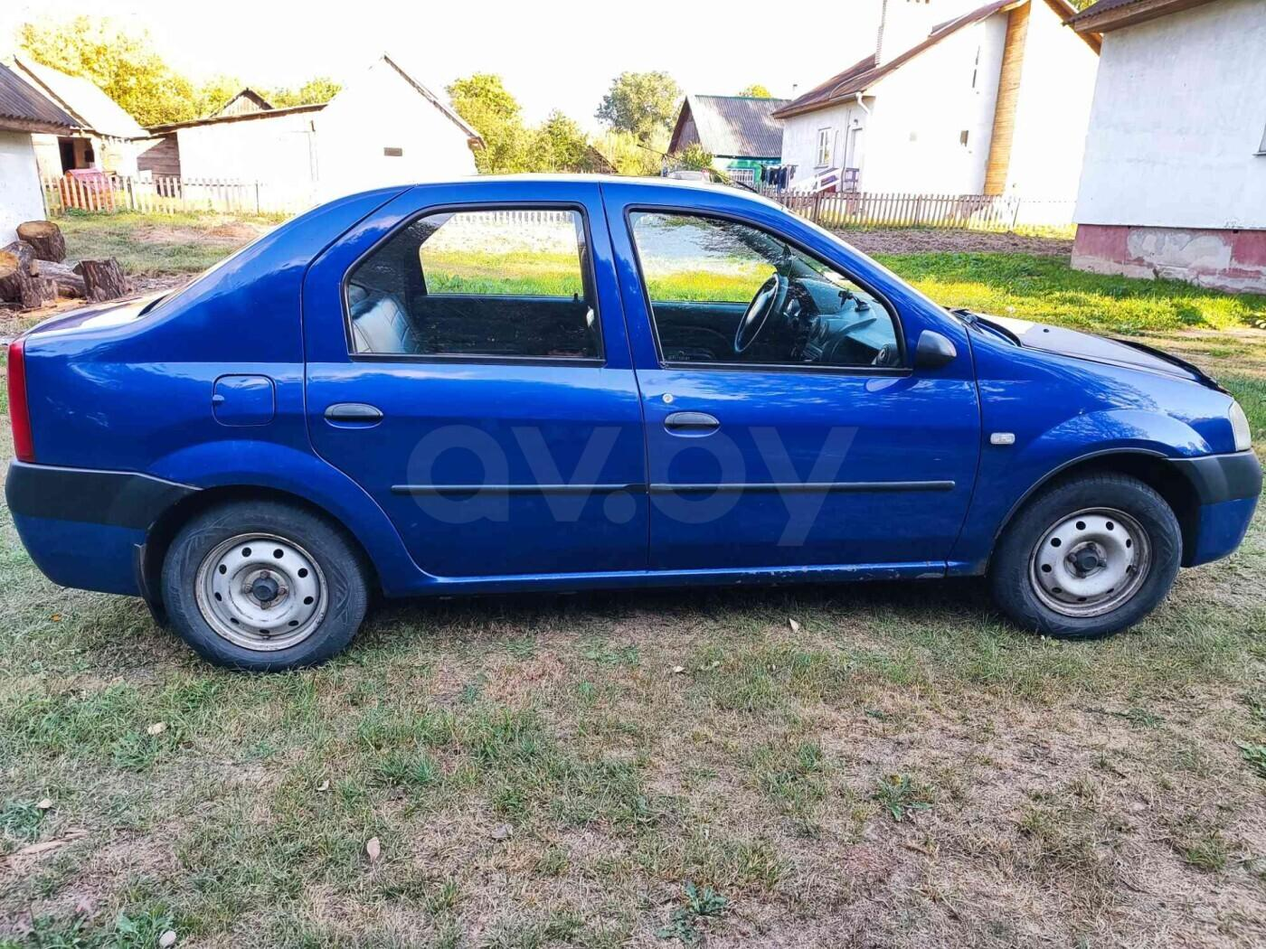Logan_2004-2009: (0, 163, 1266, 651)
